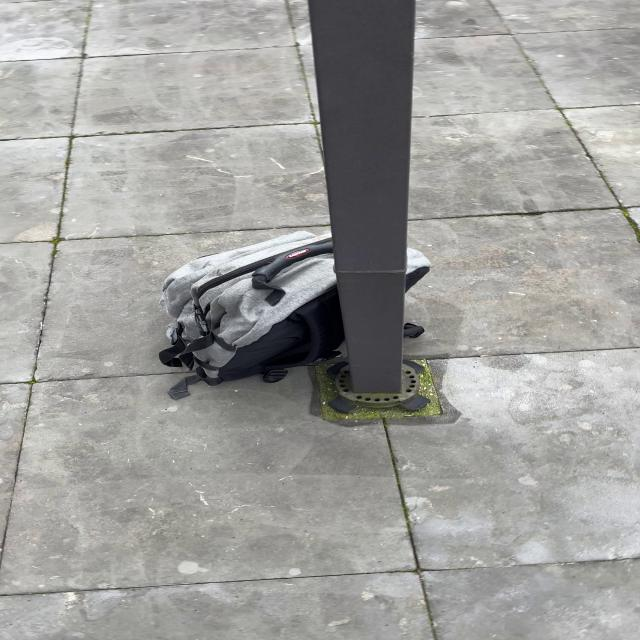backpack: (150, 228, 353, 391)
